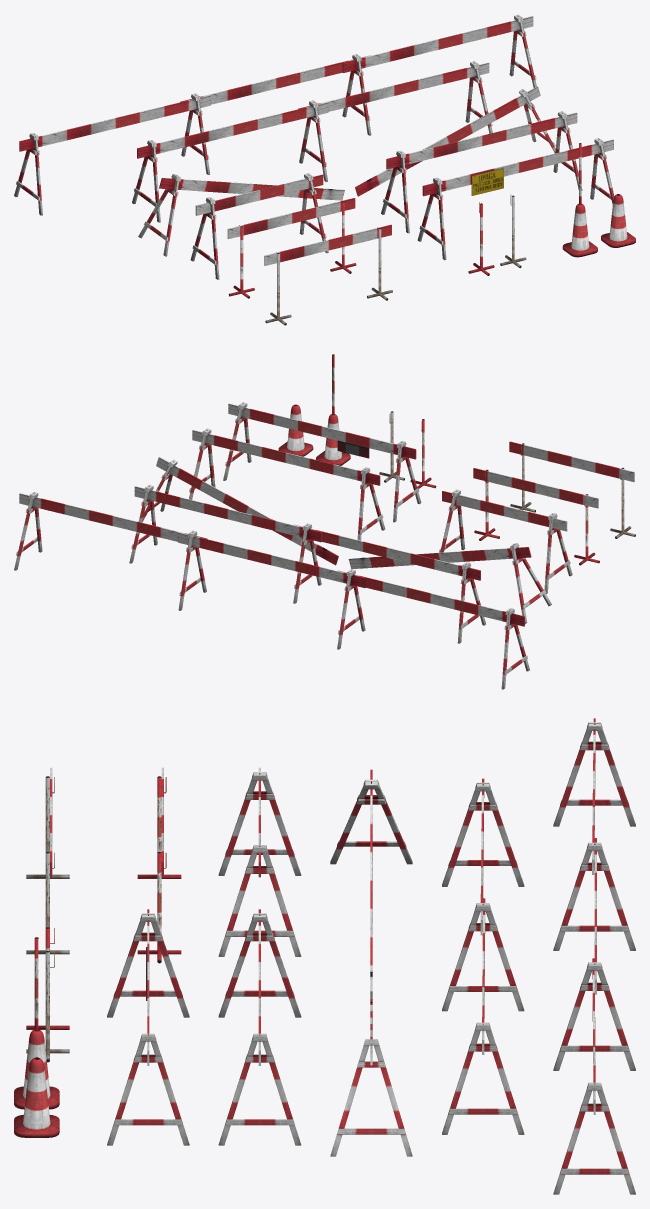
Rendered from classic_wooden_barrier__traffic_cone_pack.glb.
3 renders of one model, top to bottom at view 1: azimuth 30°, elevation 25°; view 2: azimuth 150°, elevation 25°; view 3: azimuth 270°, elevation 25°, orthographic. The views are drawn at different scales.
Visible parts, largest first — view 1: Barieraka_Drewno_8m, Barieraka_Drewno_6m, Barieraka_Drewno_3m_Znak, Barieraka_Drewno_3m, Barieraka_Drewno_2m, Barieraka_Drewno_3m_lewa, Barieraka_Drewno_3m_prawa, Barieraka_Drewno_2m.001, Barieraka_Drewno_2m.002, Pacholek_Drogowy_PRL_Tyczka, Pacholek_Drogowy_PRL; view 2: Barieraka_Drewno_8m, Barieraka_Drewno_6m, Barieraka_Drewno_3m_Znak, Barieraka_Drewno_3m, Barieraka_Drewno_2m, Barieraka_Drewno_3m_lewa, Barieraka_Drewno_3m_prawa, Barieraka_Drewno_2m.001, Barieraka_Drewno_2m.002, Pacholek_Drogowy_PRL_Tyczka, Pacholek_Drogowy_PRL; view 3: Barieraka_Drewno_8m, Barieraka_Drewno_6m, Barieraka_Drewno_3m_Znak, Barieraka_Drewno_3m, Barieraka_Drewno_2m, Barieraka_Drewno_3m_lewa, Barieraka_Drewno_3m_prawa, Pacholek_Drogowy_PRL, Pacholek_Drogowy_PRL_Tyczka, Barierka_Slupek.004_0, Barierka_Slupek.001.
Part boxes in pixels (x1=…): Barieraka_Drewno_8m: x1=14, y1=14, x2=536, y2=215; Barieraka_Drewno_6m: x1=132, y1=61, x2=492, y2=222; Barieraka_Drewno_3m_Znak: x1=417, y1=138, x2=614, y2=260; Barieraka_Drewno_3m: x1=381, y1=111, x2=582, y2=233; Barieraka_Drewno_2m: x1=190, y1=173, x2=328, y2=279; Barieraka_Drewno_3m_lewa: x1=138, y1=174, x2=344, y2=256; Barieraka_Drewno_3m_prawa: x1=355, y1=86, x2=555, y2=196; Barieraka_Drewno_2m.001: x1=227, y1=198, x2=355, y2=239; Barieraka_Drewno_2m.002: x1=264, y1=224, x2=391, y2=265; Pacholek_Drogowy_PRL_Tyczka: x1=562, y1=143, x2=597, y2=257; Pacholek_Drogowy_PRL: x1=601, y1=194, x2=635, y2=247; Barieraka_Drewno_8m: x1=14, y1=492, x2=529, y2=689; Barieraka_Drewno_6m: x1=129, y1=484, x2=485, y2=643; Barieraka_Drewno_3m_Znak: x1=223, y1=402, x2=421, y2=522; Barieraka_Drewno_3m: x1=189, y1=428, x2=385, y2=540; Barieraka_Drewno_2m: x1=438, y1=489, x2=572, y2=593; Barieraka_Drewno_3m_lewa: x1=348, y1=543, x2=551, y2=624; Barieraka_Drewno_3m_prawa: x1=142, y1=457, x2=338, y2=565; Barieraka_Drewno_2m.001: x1=473, y1=468, x2=598, y2=508; Barieraka_Drewno_2m.002: x1=509, y1=441, x2=634, y2=481; Pacholek_Drogowy_PRL_Tyczka: x1=316, y1=354, x2=350, y2=465; Pacholek_Drogowy_PRL: x1=278, y1=404, x2=313, y2=456; Barieraka_Drewno_8m: x1=553, y1=718, x2=635, y2=1194; Barieraka_Drewno_6m: x1=442, y1=778, x2=524, y2=1134; Barieraka_Drewno_3m_Znak: x1=107, y1=909, x2=189, y2=1145; Barieraka_Drewno_3m: x1=218, y1=909, x2=301, y2=1145; Barieraka_Drewno_2m: x1=218, y1=767, x2=301, y2=956; Barieraka_Drewno_3m_lewa: x1=330, y1=769, x2=412, y2=998; Barieraka_Drewno_3m_prawa: x1=330, y1=999, x2=412, y2=1156; Pacholek_Drogowy_PRL: x1=14, y1=1057, x2=59, y2=1137; Pacholek_Drogowy_PRL_Tyczka: x1=14, y1=937, x2=59, y2=1109; Barierka_Slupek.004_0: x1=26, y1=951, x2=69, y2=1062; Barierka_Slupek.001: x1=137, y1=851, x2=181, y2=963.
Bounding box in the file's own units: 8.09 × 1.61 × 5.57.
4 materials, 4 textured.
